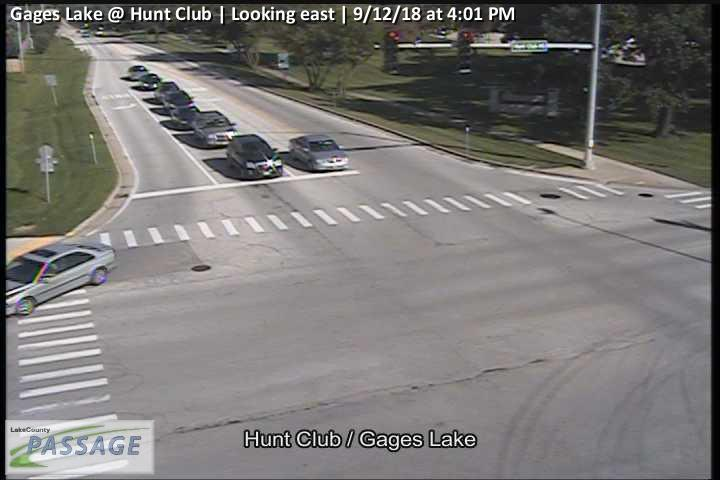SUV: (192, 111, 237, 148)
Sedan: (1, 235, 117, 314), (227, 135, 283, 180), (289, 135, 350, 172), (170, 104, 203, 129), (163, 90, 194, 112), (155, 82, 181, 100), (127, 65, 149, 81), (141, 73, 160, 90)
